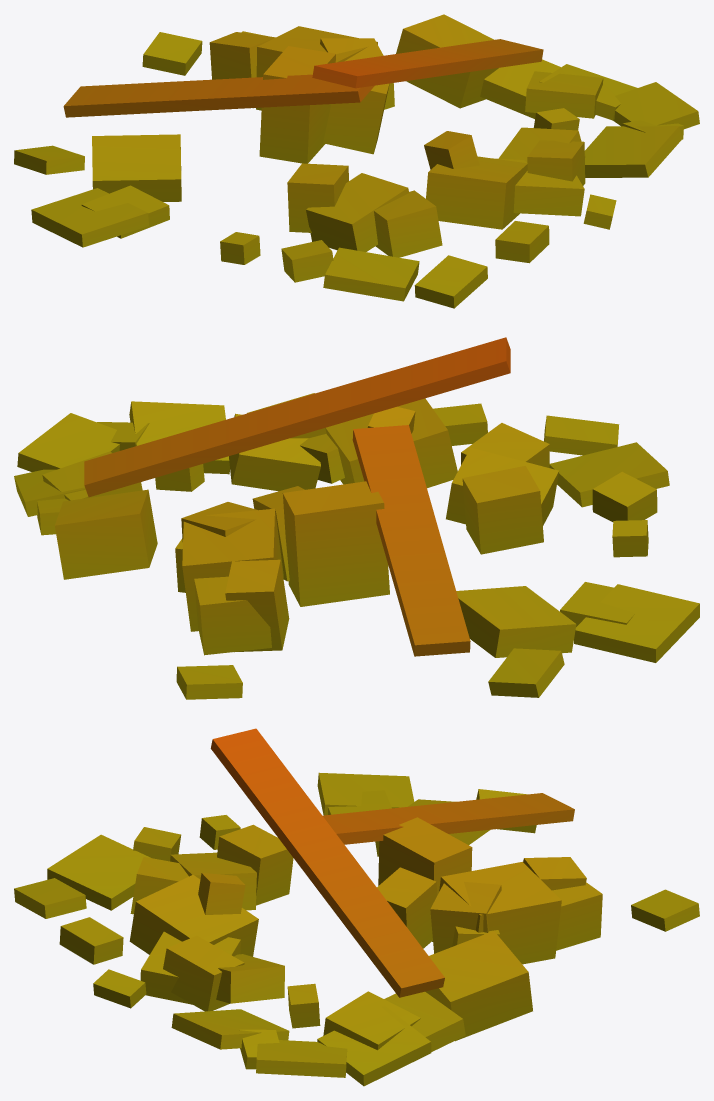
Rendered from SM_Debris_Gravats_Brique.fbx.
The picture shows the model from 3 angles, top to bottom: view 1: azimuth 30°, elevation 25°; view 2: azimuth 150°, elevation 25°; view 3: azimuth 270°, elevation 25°; orthographic projection. The views are drawn at different scales.
Visible parts, largest first — view 1: SM_Debris_Gravats_Brique_LOD0; view 2: SM_Debris_Gravats_Brique_LOD0; view 3: SM_Debris_Gravats_Brique_LOD0.
Boxes of the visible parts, x1,y1,x2,y2 form: SM_Debris_Gravats_Brique_LOD0: [14, 14, 699, 308]; SM_Debris_Gravats_Brique_LOD0: [14, 337, 699, 699]; SM_Debris_Gravats_Brique_LOD0: [14, 728, 699, 1086].
Size of what is drawn, in the model's own units: 1.93 by 0.5258 by 1.9.
